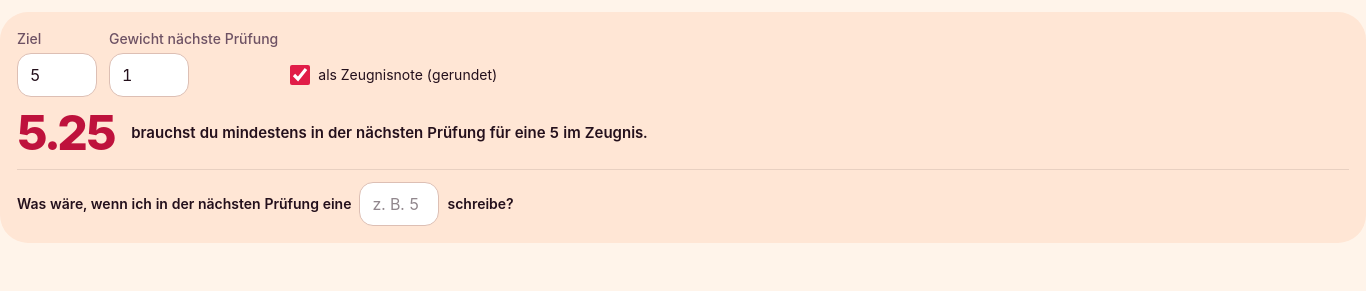
Test: Notenrechner (Oberfläche) › Was wäre, wenn: neue Zeugnisnote
The width and height of the screenshot is (1366, 291).
Step 1. Type "6" into the field named "Erwartete Note" → (400,204), box [360,182,440,226]
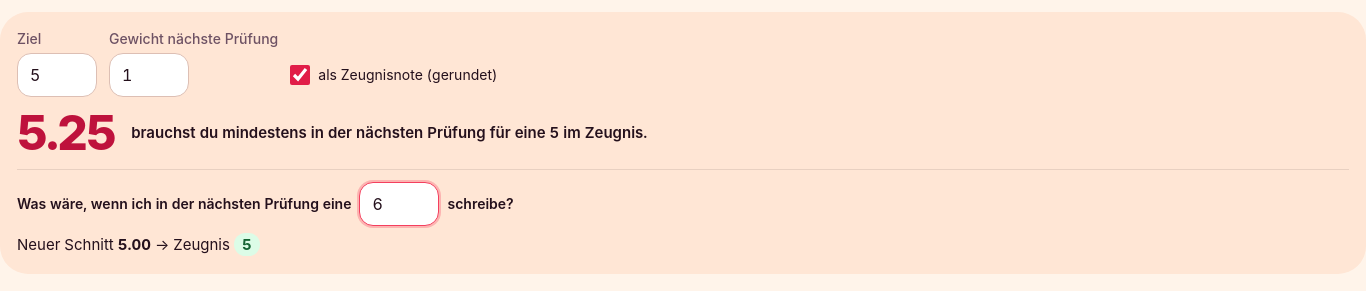
Expected: the text "Neuer Schnitt 5.00 → Zeugnis 5" is shown, [17,233,260,256]
